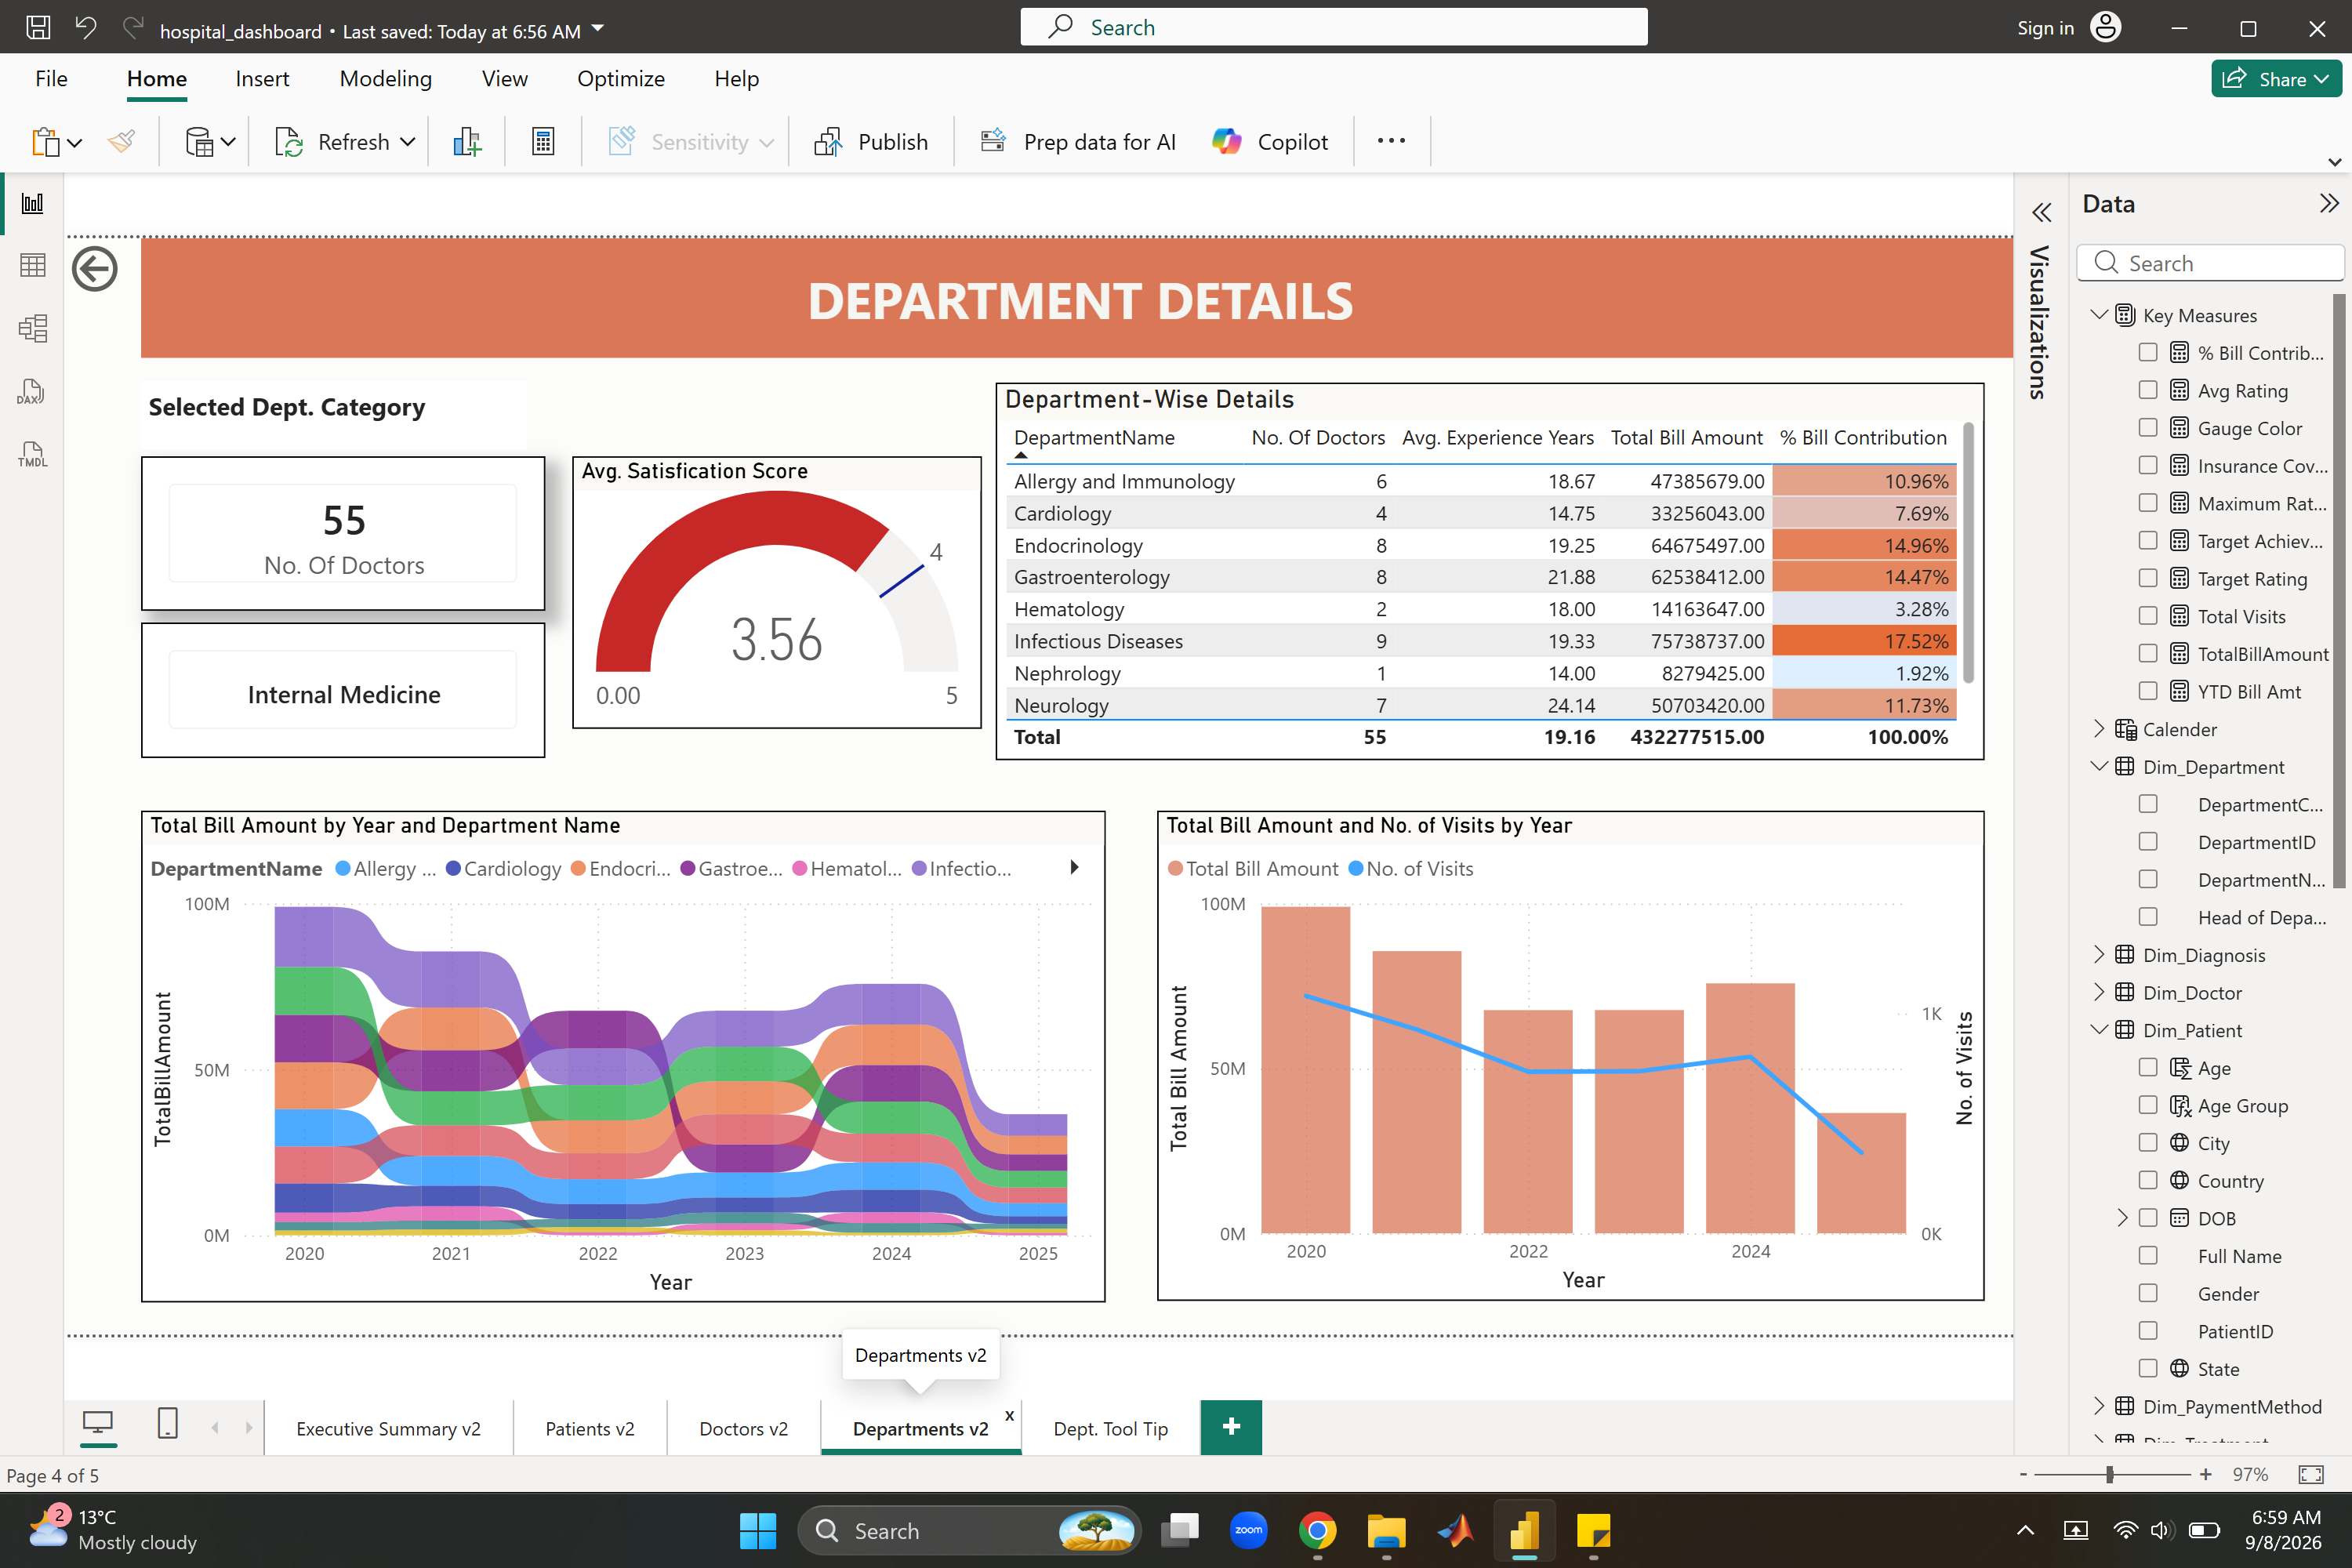

What the dashboard file says about the page in this screenshot:
{"tool":"powerbi","page":{"name":"Departments v2","canvas":[1280,720],"ordinal":3},"visuals":[{"type":"lineClusteredColumnComboChart","title":"Total Bill Amount and No. of Visits by Year","fields":{"Category":["Calender.Year"],"Y":["Key Measures.TotalBillAmount"],"Y2":["CountNonNull(fact_patientVisits.VisitID)"]},"box":[717.3,376,543.4,321.9],"z":1000},{"type":"ribbonChart","title":"Total Bill Amount by Year and Department Name","fields":{"Category":["Calender.Year"],"Y":["Key Measures.TotalBillAmount"],"Series":["Dim_Department.DepartmentName"]},"box":[50.2,376,633.6,323.2],"z":2000},{"type":"cardVisual","fields":{"Data":["Count(Dim_Doctor.DoctorID)"]},"box":[50.2,142.9,265.3,101.7],"z":3000},{"type":"cardVisual","fields":{"Data":["Min(Dim_Department.DepartmentCategory)"]},"box":[50.2,252.4,265.3,88.9],"z":4000},{"type":"tableEx","title":"Department-Wise Details","fields":{"Values":["Dim_Department.DepartmentName","Dim_Doctor.DoctorID","Avg(Dim_Doctor.ExperienceYears)","Key Measures.TotalBillAmount","Key Measures.% Bill Contribution"]},"box":[611.7,94.2,649.4,247.9],"z":5000},{"type":"actionButton","box":[0,0,100,40],"z":6000},{"type":"textbox","box":[50.2,94,253.7,45.1],"z":7000},{"type":"shape","box":[50.2,0,1233.6,78.6],"z":8000},{"type":"gauge","title":"Avg. Satisfication Score","fields":{"TargetValue":["Key Measures.Target Rating"],"MaxValue":["Key Measures.Maximum Rating"],"Y":["Key Measures.Avg Rating"]},"box":[333.5,142.9,269.1,179],"z":9000}]}

Visuals, with their boxes on the page's 1280x720 design canvas (x1, y1, x2, y2). These are canvas units, not pixel positions in the 2352x1568 screenshot, which may show the page scaled, cropped or inside an application window:
"Total Bill Amount and No. of Visits by Year" lineClusteredColumnComboChart: 717 376 1261 698
"Total Bill Amount by Year and Department Name" ribbonChart: 50 376 684 699
cardVisual - Count(Dim_Doctor.DoctorID): 50 143 316 245
cardVisual - Min(Dim_Department.DepartmentCategory): 50 252 316 341
"Department-Wise Details" tableEx: 612 94 1261 342
actionButton: 0 0 100 40
textbox: 50 94 304 139
shape: 50 0 1284 79
"Avg. Satisfication Score" gauge: 334 143 603 322
